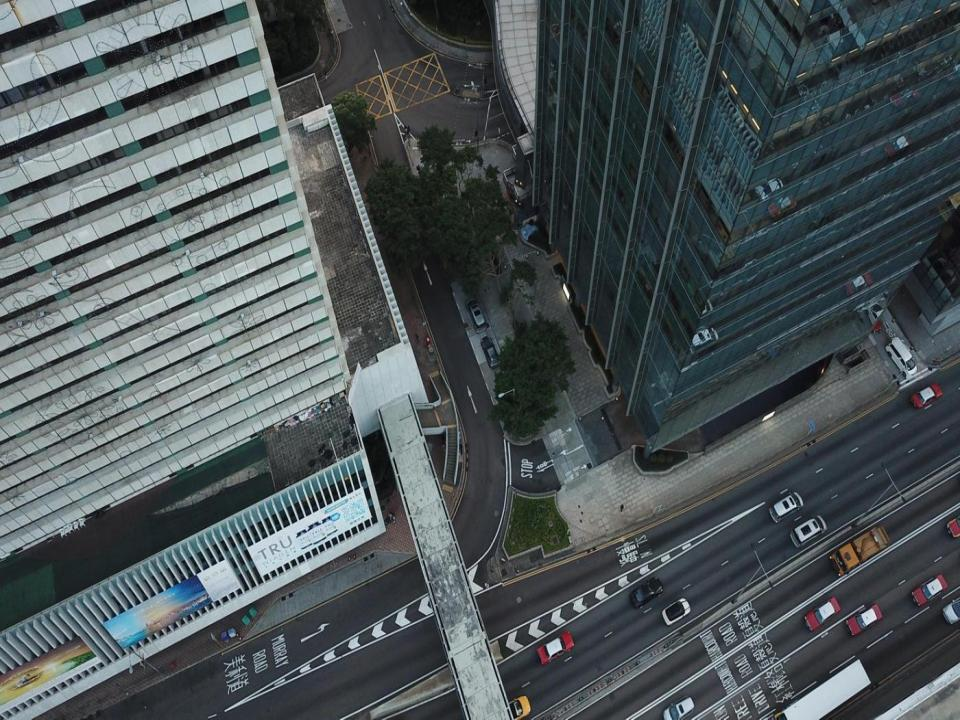bus: (768, 659, 871, 719)
car: (912, 572, 948, 608), (537, 630, 575, 664), (803, 596, 841, 630), (790, 515, 827, 549), (845, 604, 882, 635), (769, 492, 803, 524), (630, 576, 663, 608), (494, 696, 531, 719), (662, 597, 691, 626), (662, 695, 696, 719), (911, 383, 942, 409), (465, 299, 487, 333), (481, 336, 501, 368), (863, 298, 881, 332), (942, 594, 960, 624), (947, 509, 960, 538)
truck: (829, 524, 891, 576)
van: (885, 337, 917, 379)
